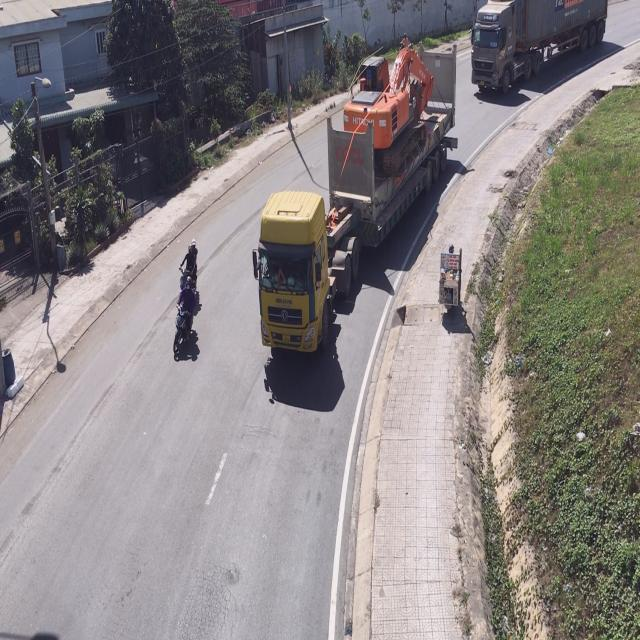motorbike: (171, 277, 199, 361), (439, 244, 463, 318), (177, 240, 198, 289)
truck: (255, 53, 458, 359), (471, 0, 608, 97)
